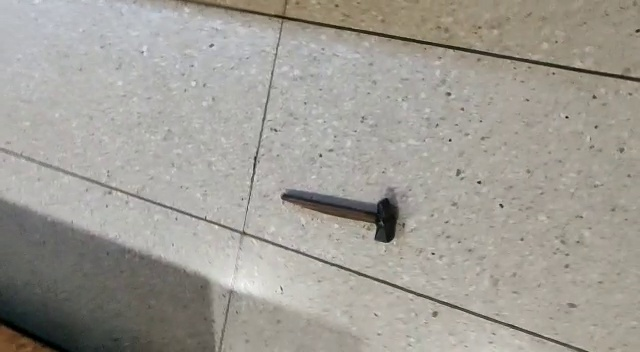hammer: (278, 191, 400, 244)
